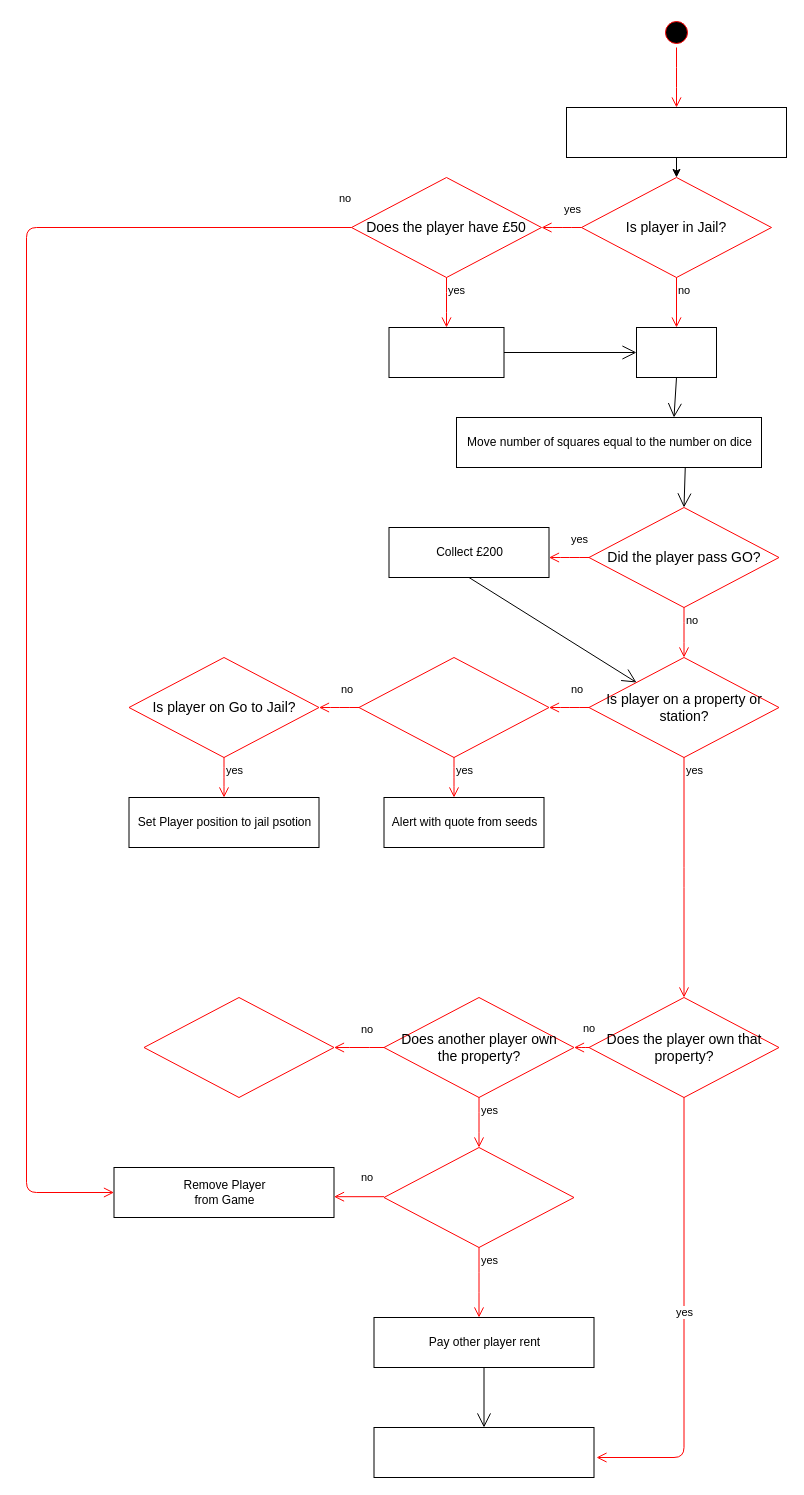
Some shapes in this 804 by 1495 pixel diagram are drawn without their labels. The centre of each missing label's shape, as x and y in pixels:
"Does the player have enough money for the rent?" belongs at point 478,1197.
"Does the player want to buy the property?" belongs at point 238,1047.
"Is player on a Baz Wisdom card?" belongs at point 453,707.
"Next Players turn" belongs at point 483,1452.
"Pay £50 fine" belongs at point 446,352.
"Roll Dice" belongs at point 676,352.
"Turn Player Property of isTurn = True" belongs at point 676,132.
